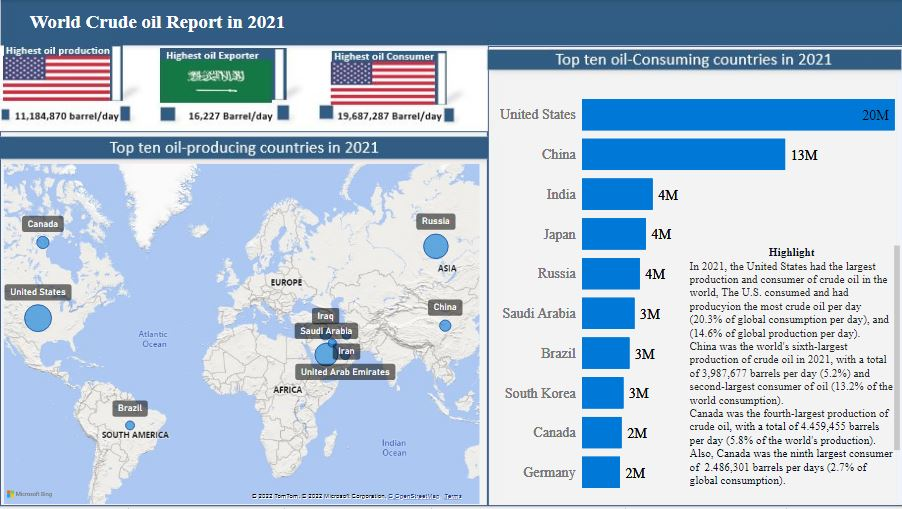

The dashboard page shown, as its layout file describes it:
{"tool":"powerbi","page":{"name":"Dashboard","canvas":[1280,720],"ordinal":0},"visuals":[{"type":"map","fields":{"Size":["Sum(Oil Producer.Oil production (Barrels per day))"],"Category":["Oil Producer.Country"]},"box":[0,226.8,684.6,493.2],"z":0},{"type":"barChart","fields":{"Category":["Oil Consumers.Country"],"Y":["Sum(Oil Consumers.Daily Oil Consumption   (barrels))"]},"box":[695.9,104.9,583.9,615.1],"z":1000},{"type":"barChart","fields":{"Category":["Oil Consumers.Country"],"Y":["Sum(Oil Consumers.Daily Oil Consumption   (barrels))"]},"box":[696.1,104.9,583.9,615.1],"z":2000},{"type":"barChart","fields":{"Category":["Oil Consumers.Country"],"Y":["Sum(Oil Consumers.Daily Oil Consumption   (barrels))"]},"box":[696.1,104.9,583.9,615.1],"z":3000},{"type":"textbox","box":[972.3,343,307.6,365.7],"z":4000},{"type":"textbox","box":[36.9,11.3,684.6,46.8],"z":5000}]}

Visuals, with their boxes in screenshot pixels (x1, y1, x2, y2), scaled from the page's 1280x720 canvas onto the 902x509 screenshot:
map - Sum(Oil Producer.Oil production (Barrels per day)) x Oil Producer.Country: rect(0, 160, 482, 508)
barChart - Oil Consumers.Country x Sum(Oil Consumers.Daily Oil Consumption   (barrels)): rect(490, 74, 901, 508)
barChart - Oil Consumers.Country x Sum(Oil Consumers.Daily Oil Consumption   (barrels)): rect(491, 74, 901, 508)
barChart - Oil Consumers.Country x Sum(Oil Consumers.Daily Oil Consumption   (barrels)): rect(491, 74, 901, 508)
textbox: rect(685, 242, 901, 501)
textbox: rect(26, 8, 508, 41)
